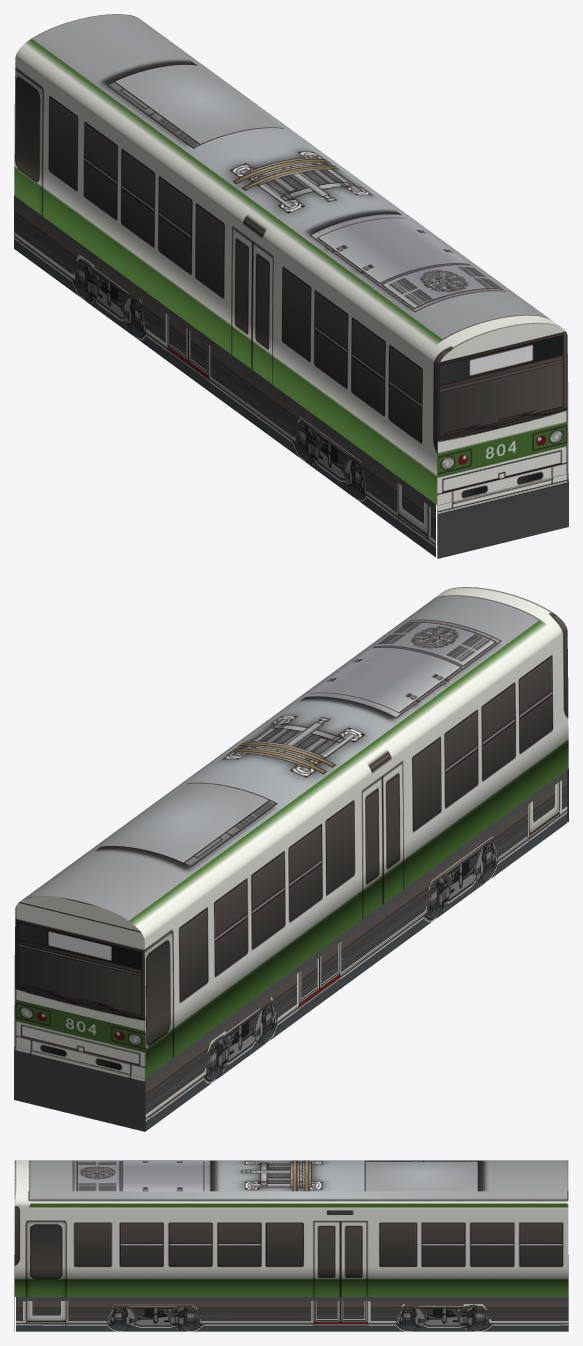
Rendered from car1.glb.
The picture shows the model from 3 angles, top to bottom: view 1: azimuth 30°, elevation 25°; view 2: azimuth 150°, elevation 25°; view 3: azimuth 270°, elevation 25°; orthographic projection. The views are drawn at different scales.
Parts seen in each view (by area): view 1: hiroden-800-car1; view 2: hiroden-800-car1; view 3: hiroden-800-car1.
Part boxes in pixels (left/top/right/bottom): hiroden-800-car1: left=14, top=14, right=568, bottom=558; hiroden-800-car1: left=14, top=587, right=568, bottom=1131; hiroden-800-car1: left=14, top=1160, right=568, bottom=1331.
Size of the model in its own units: 2.45 by 3.82 by 13.71.
9 materials, 8 textured.
